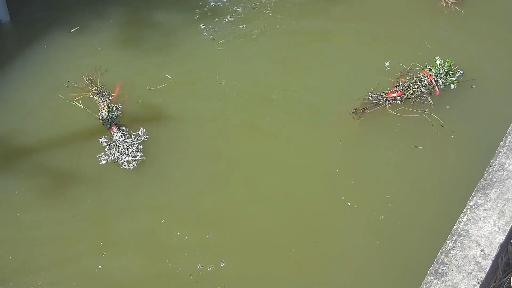twig: (40, 54, 150, 172), (339, 59, 470, 133), (421, 0, 472, 21)
